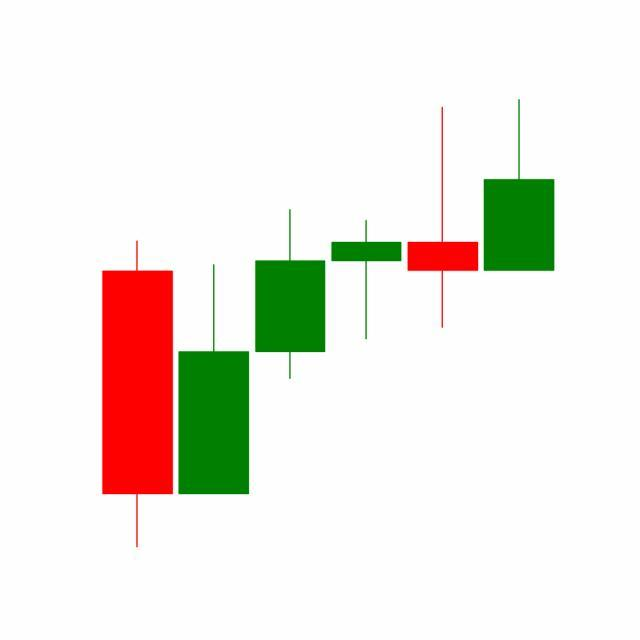Spinning Top: (404, 105, 482, 331)
